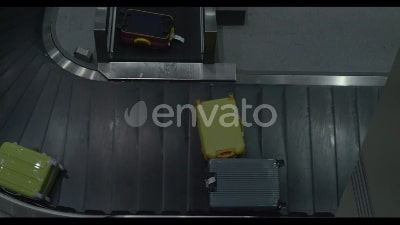baggage: (204, 155, 295, 216), (1, 138, 74, 207), (189, 89, 246, 158), (117, 11, 186, 53)
